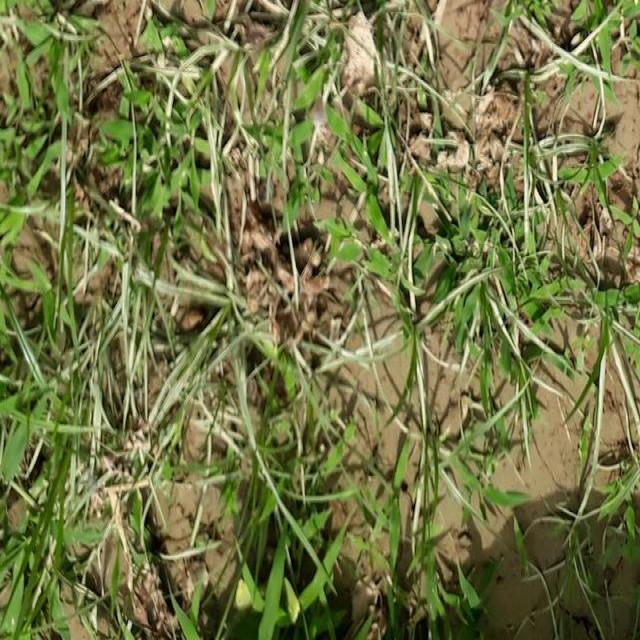weed: (153, 188, 474, 626), (509, 244, 640, 639), (0, 0, 111, 323)
